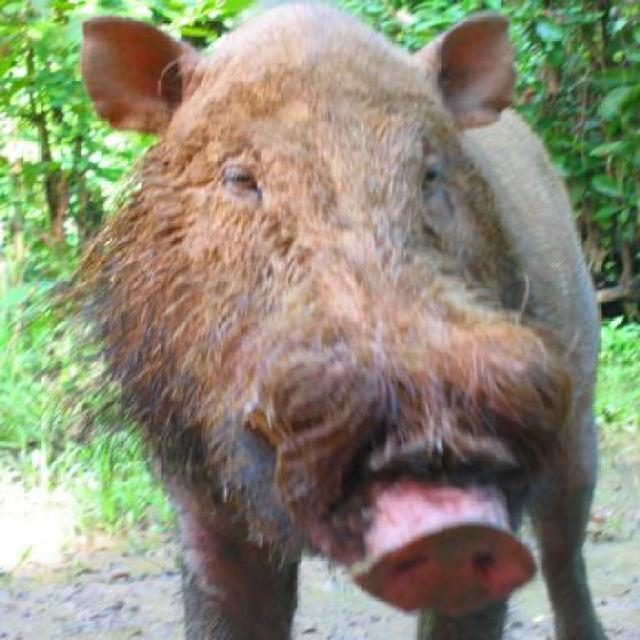Boar: (10, 1, 613, 640)
